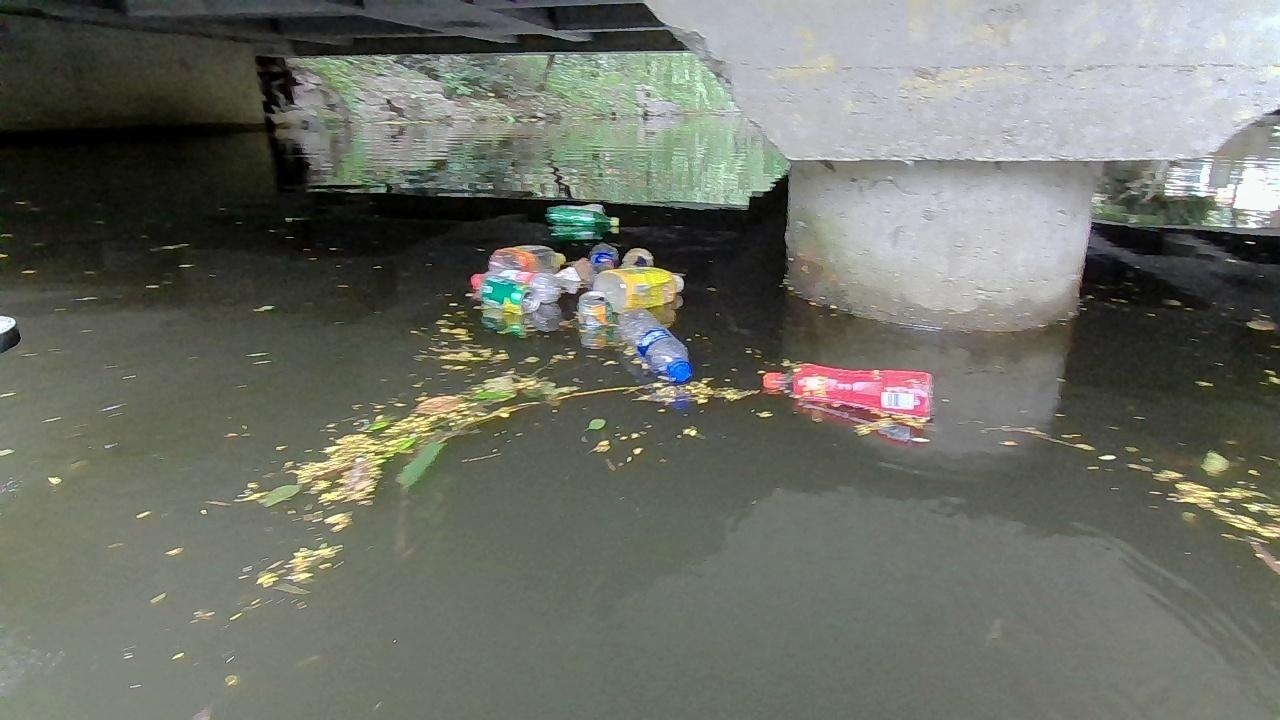bottle: (763, 362, 938, 418), (620, 310, 694, 376), (595, 268, 685, 301), (488, 244, 563, 277), (496, 267, 562, 298), (479, 277, 535, 310), (544, 204, 614, 228), (573, 294, 616, 323), (588, 239, 615, 266)
